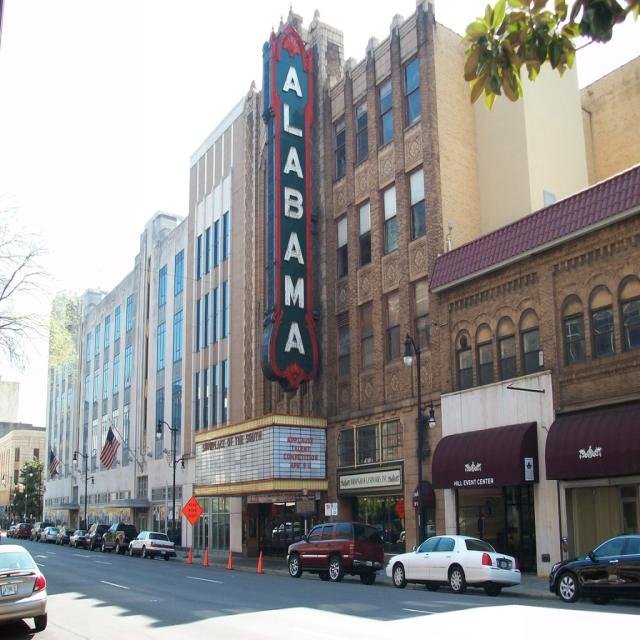car: (383, 530, 519, 592), (290, 519, 380, 585)
